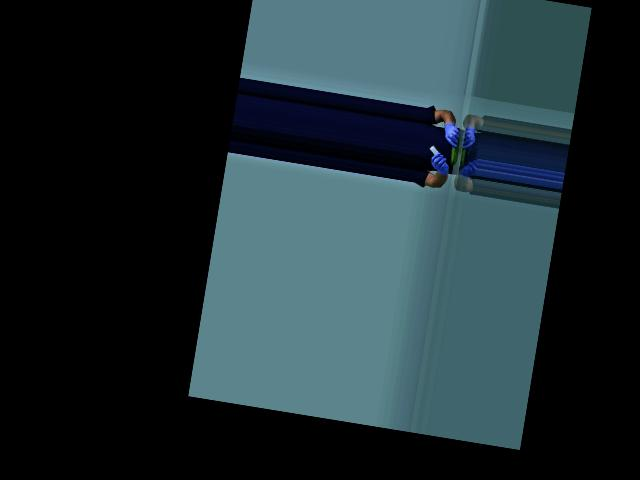cucumber: (449, 138, 460, 166)
